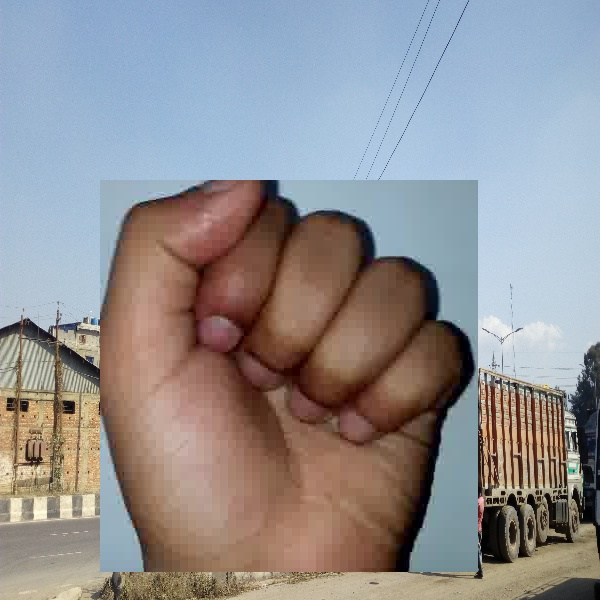A: (100, 180, 478, 572)
